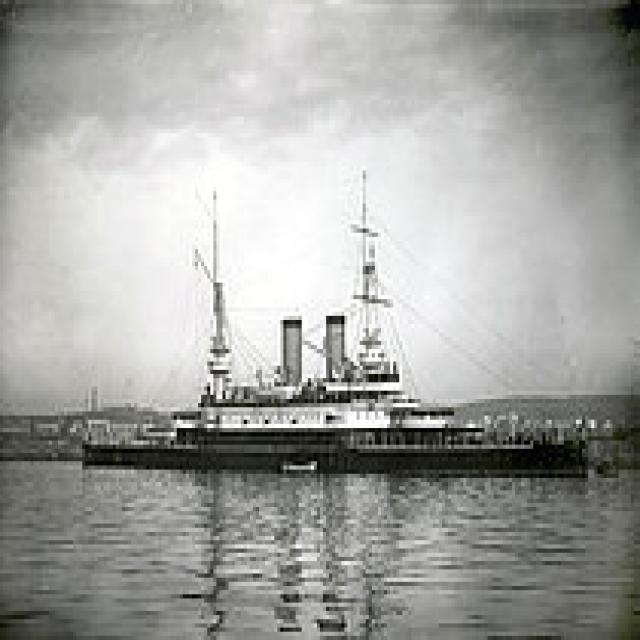boat: (88, 359, 596, 487)
